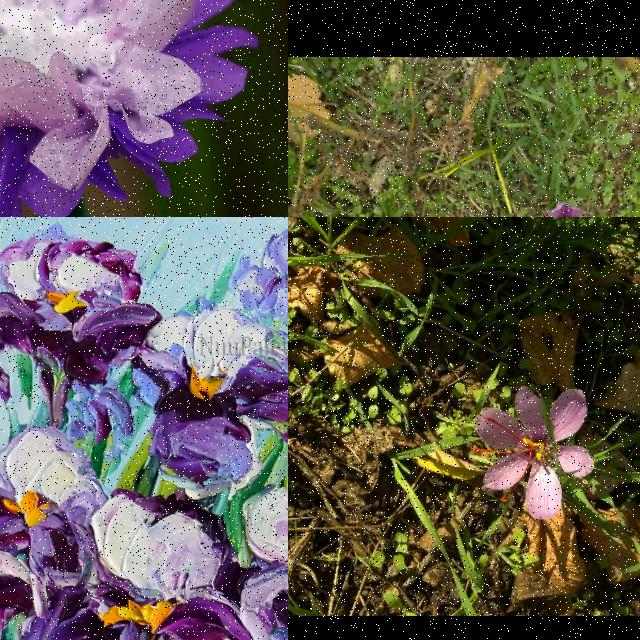flower: (471, 387, 595, 519)
